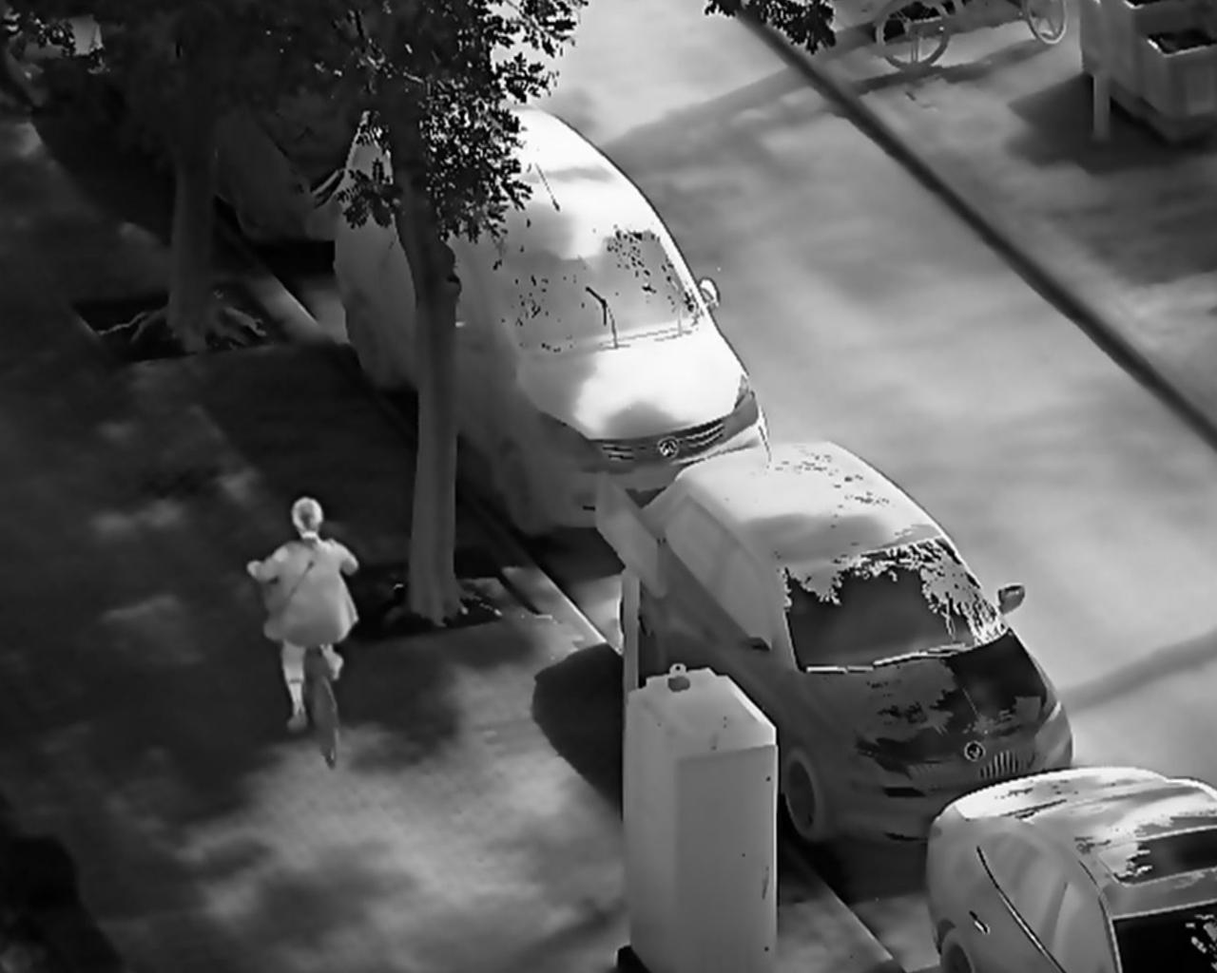person: (244, 490, 363, 739)
